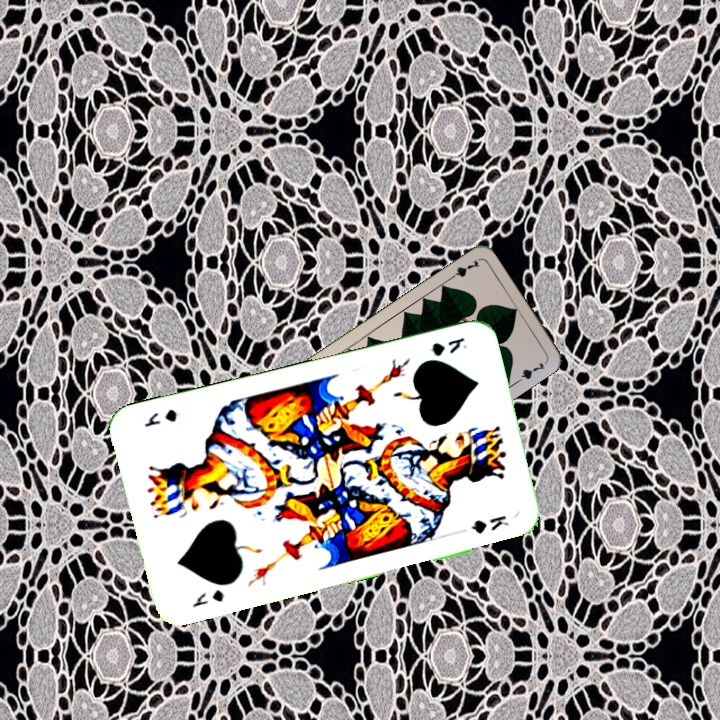G7: (444, 256, 482, 283)
GK: (424, 333, 470, 359), (188, 585, 227, 610)
